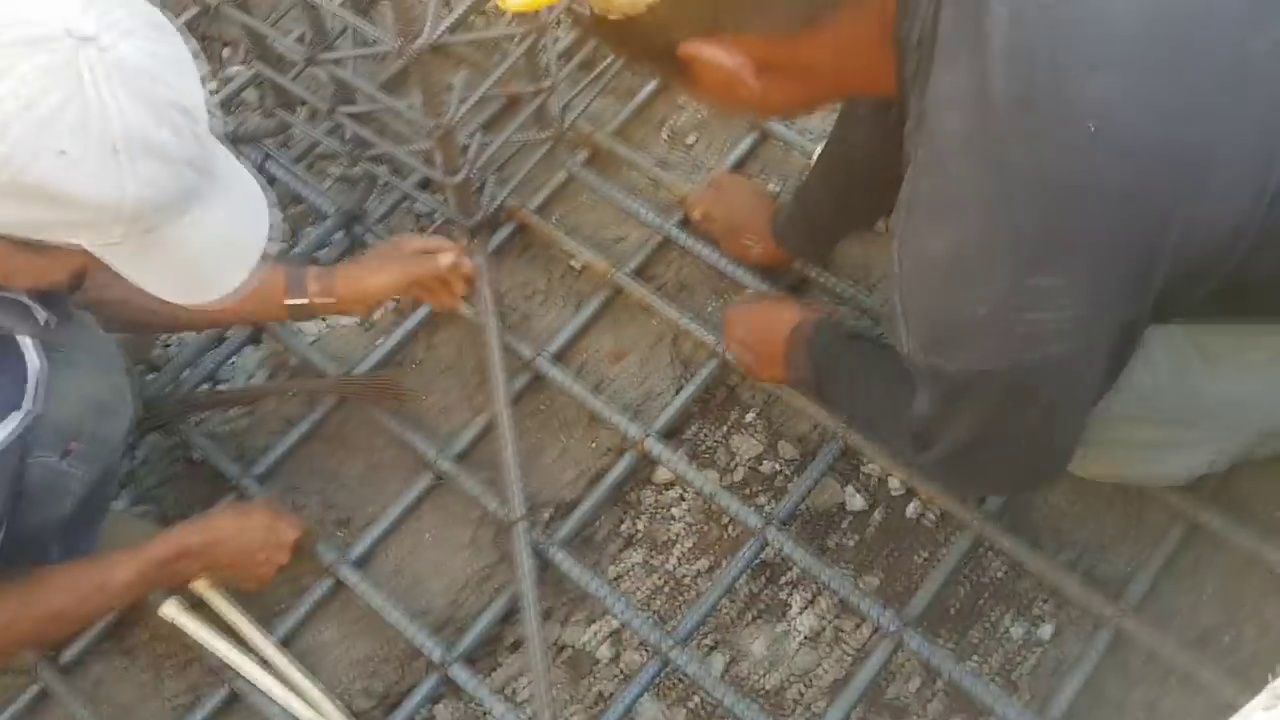helmet-off: (10, 0, 273, 338), (556, 2, 912, 131)
person: (558, 0, 1273, 494), (3, 6, 460, 671)
